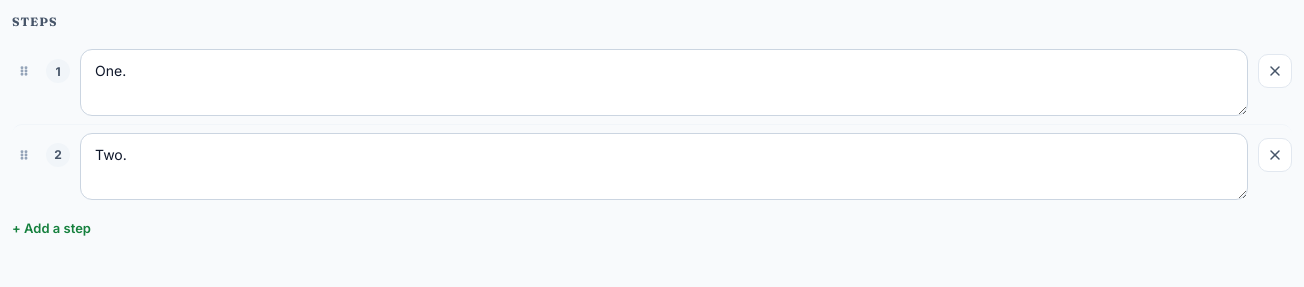
Test: EditorStepsComponent › closes the row when the focus leaves it
Focus the text box named "Step 1" at [664, 83], box left=80, top=49, right=1248, bottom=116
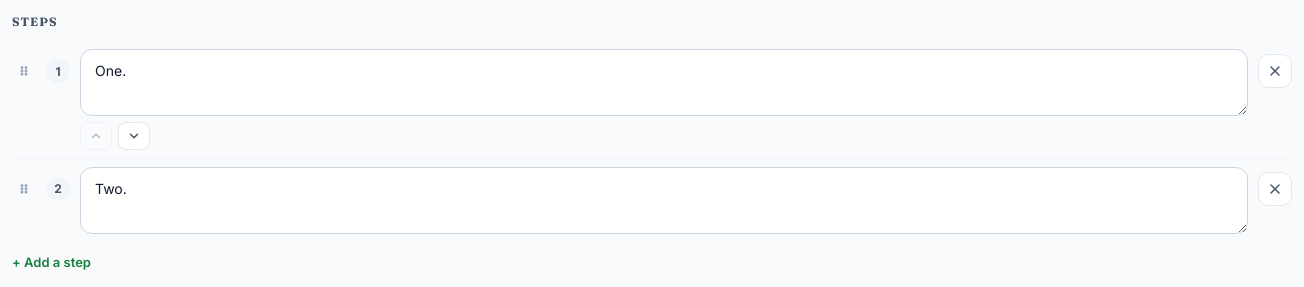
Leave the list item "1", box left=12, top=41, right=1292, bottom=158
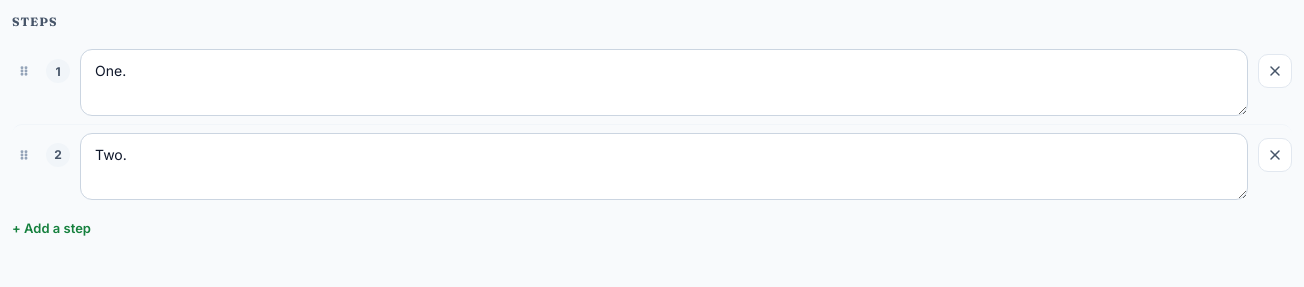
Check: no buttons with class "move" are shown
